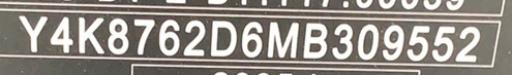letter: (264, 21, 300, 60), (72, 15, 104, 56), (16, 14, 48, 53), (208, 19, 238, 60), (104, 15, 132, 56), (300, 21, 328, 62), (456, 26, 484, 65), (156, 16, 182, 57), (50, 13, 74, 56), (132, 15, 156, 58), (238, 20, 264, 59), (329, 22, 355, 61), (182, 17, 206, 58), (432, 24, 456, 65), (380, 24, 406, 61), (406, 23, 430, 62), (356, 22, 378, 61)
